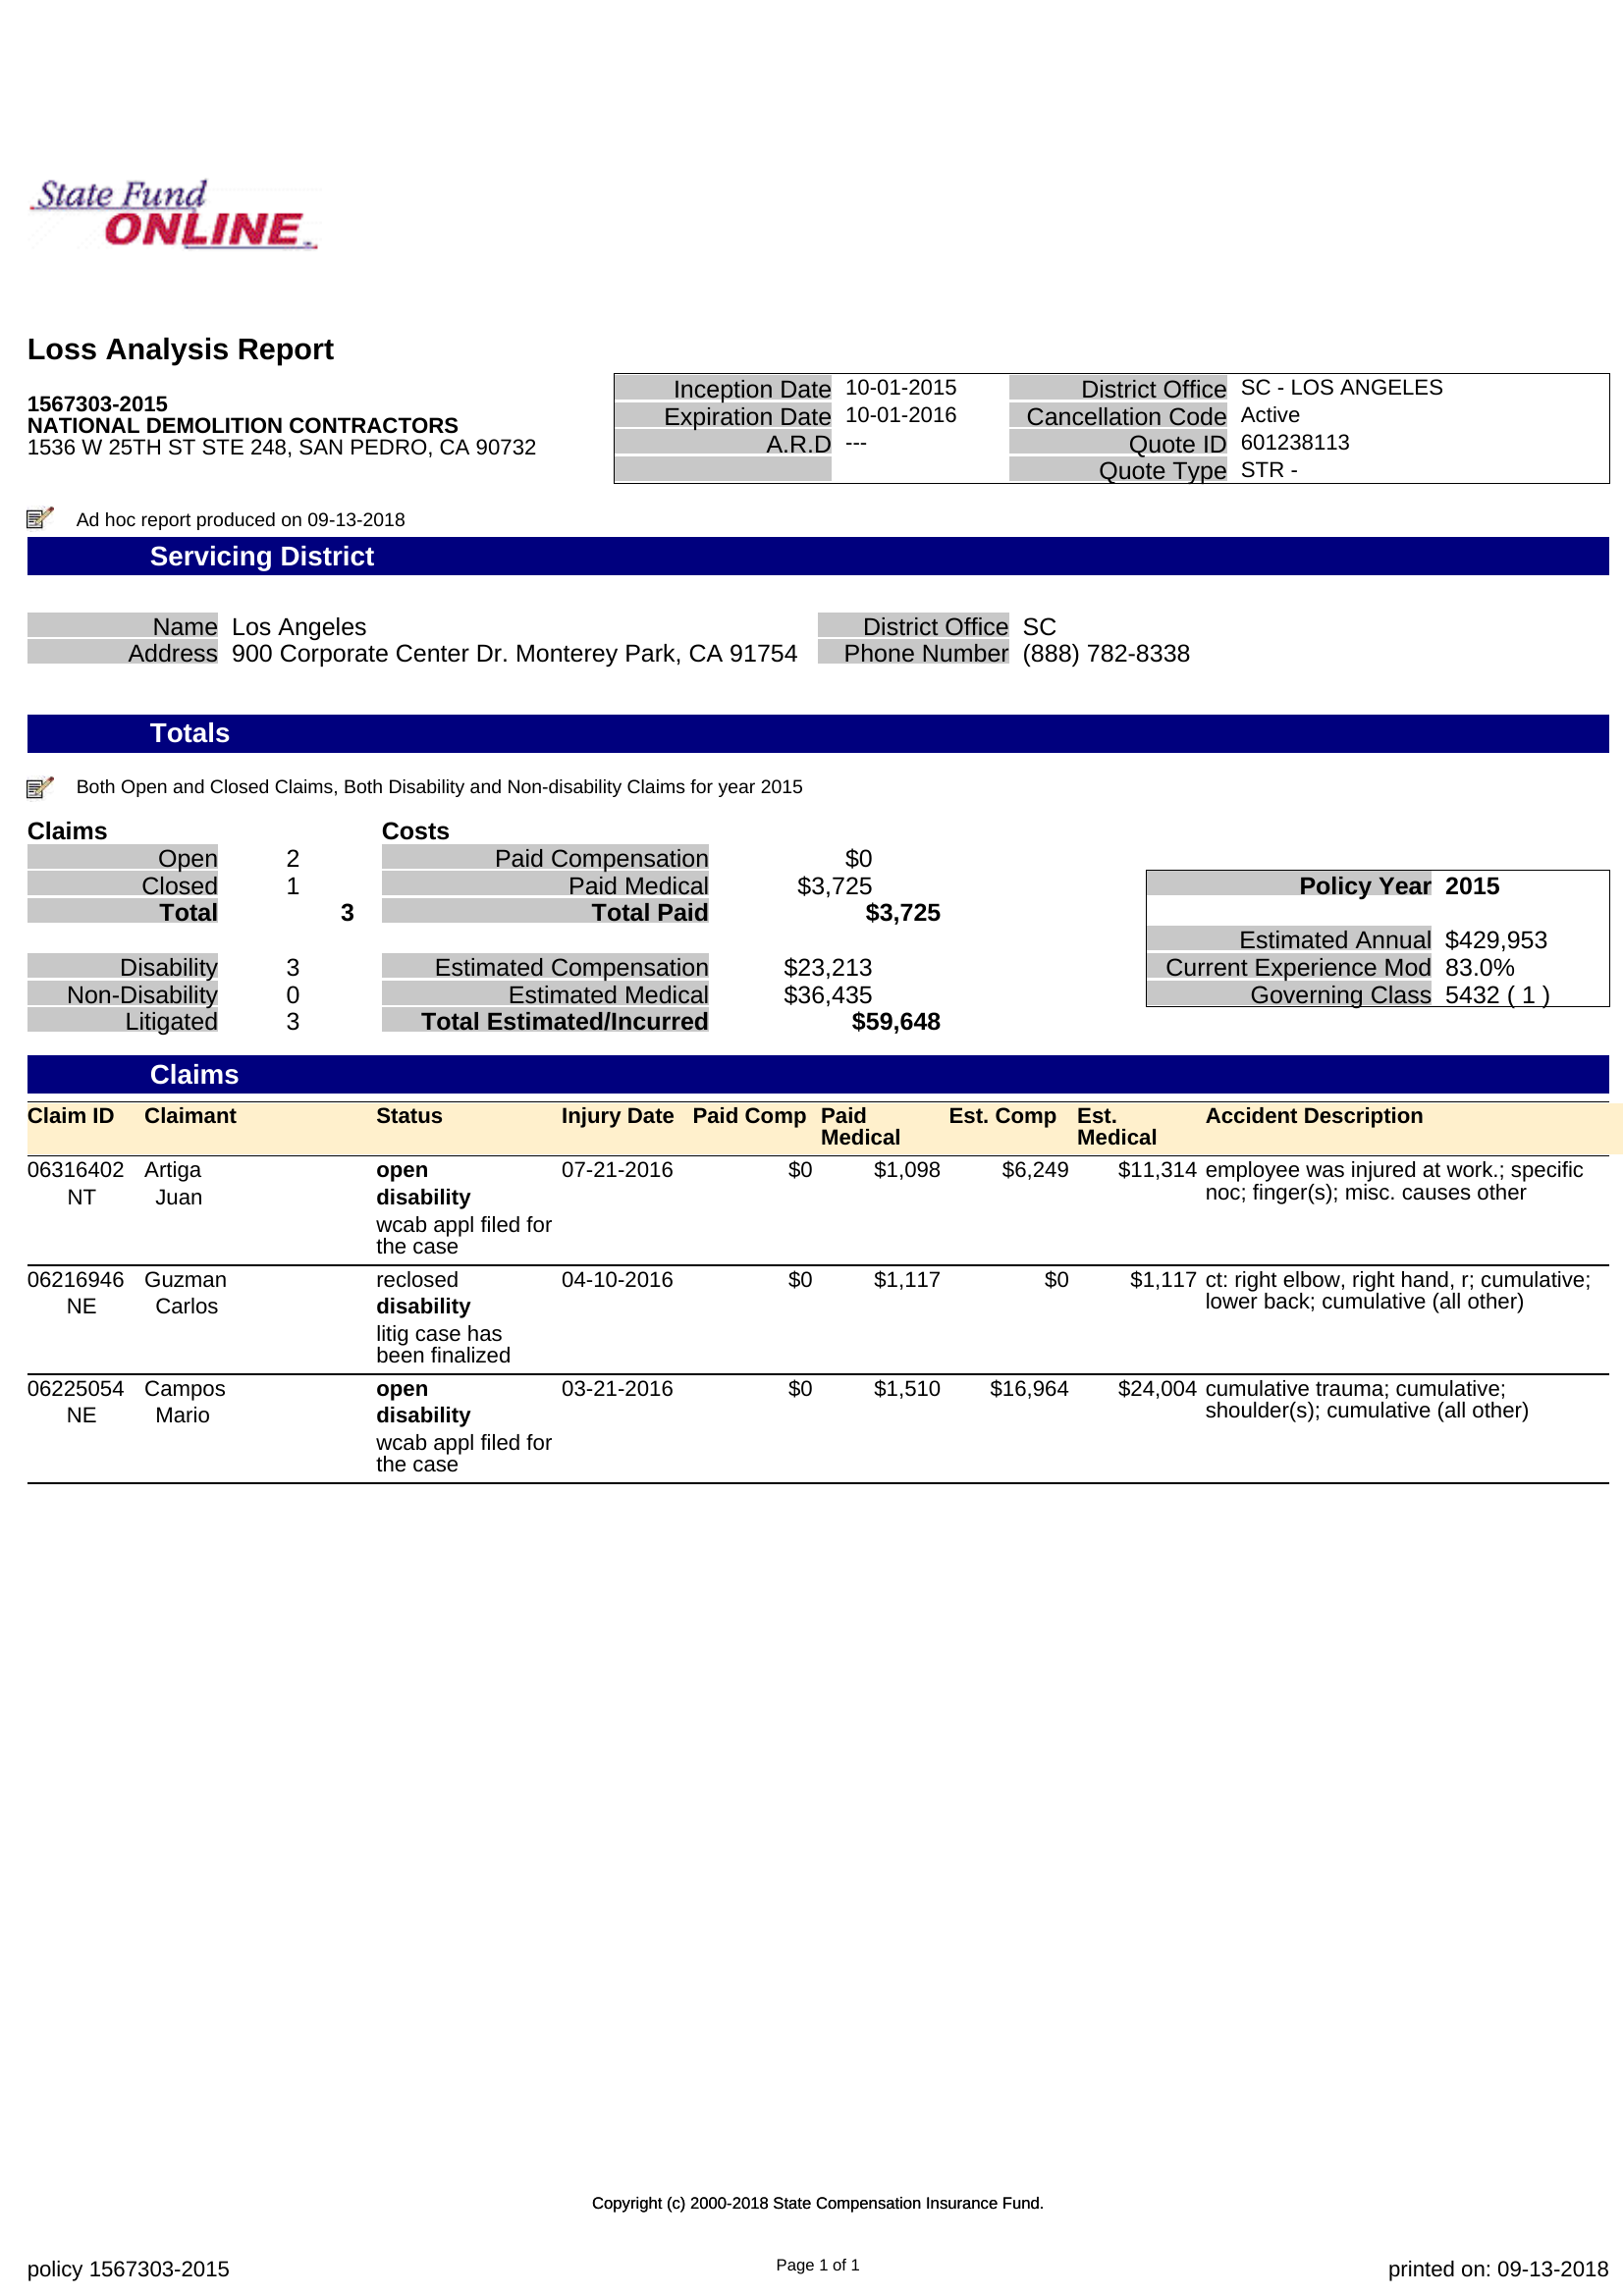others: (7, 1050, 1621, 1515)
